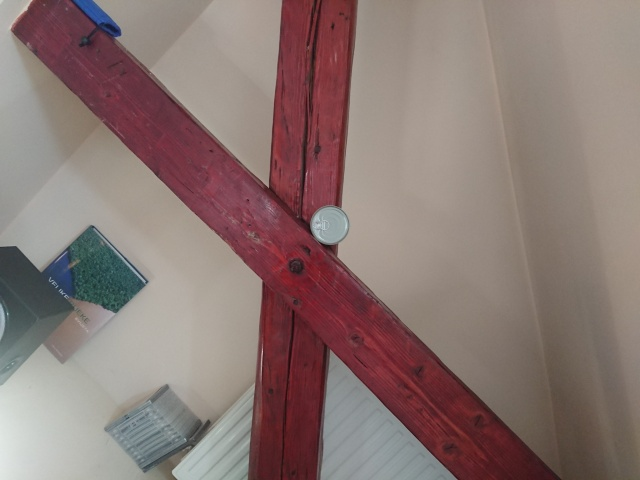Giana Tuna Salad Mexico 185g: (307, 204, 352, 247)
